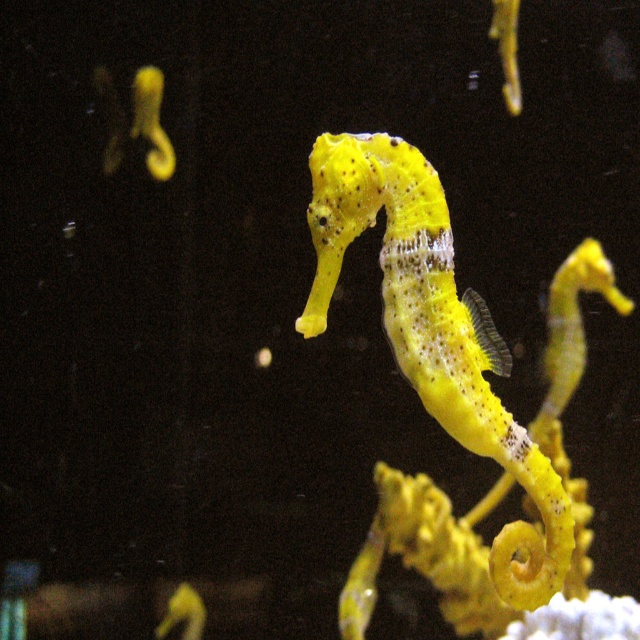Seahorse: (93, 0, 640, 640)
